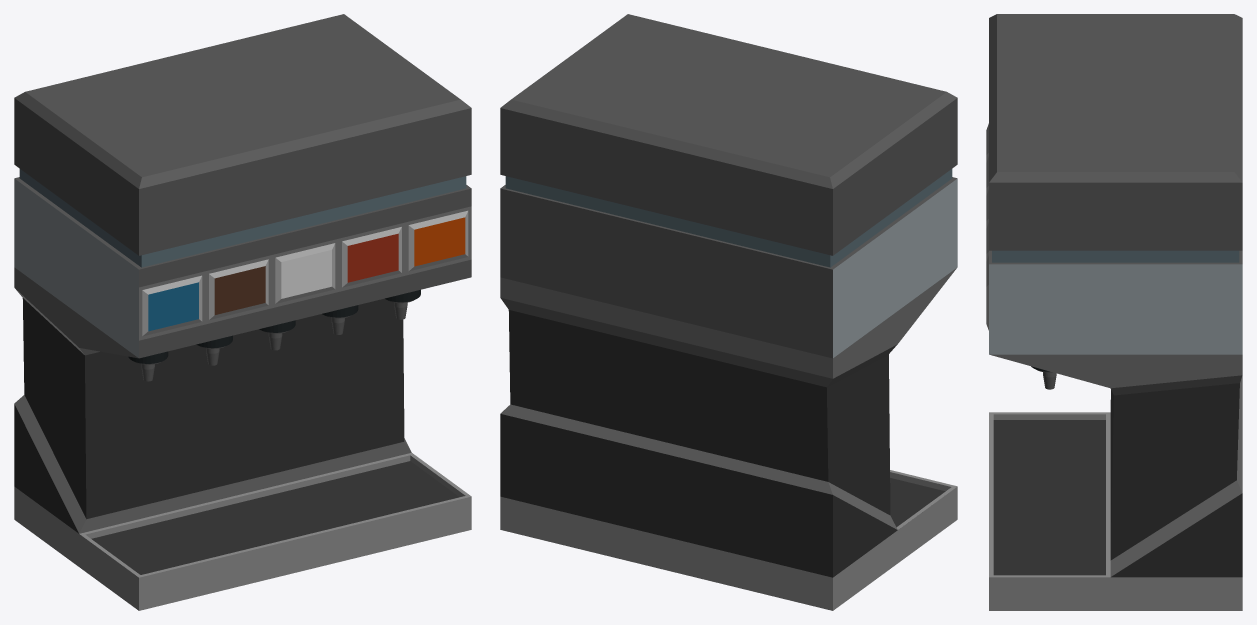
File: Soft Drink Machine.fbx
3 renders of one model, left to right at view 1: azimuth 30°, elevation 25°; view 2: azimuth 150°, elevation 25°; view 3: azimuth 270°, elevation 25°, orthographic.
Visible parts, largest first — view 1: Soft Drink Machine; view 2: Soft Drink Machine; view 3: Soft Drink Machine.
Part boxes in pixels (x1,y1,x2,y2): Soft Drink Machine: (14, 14, 471, 610); Soft Drink Machine: (500, 14, 957, 610); Soft Drink Machine: (986, 14, 1242, 610).
Size of the model in its own units: 86.8 by 107 by 56.97.
Materials: 2 (2 with a texture image).
